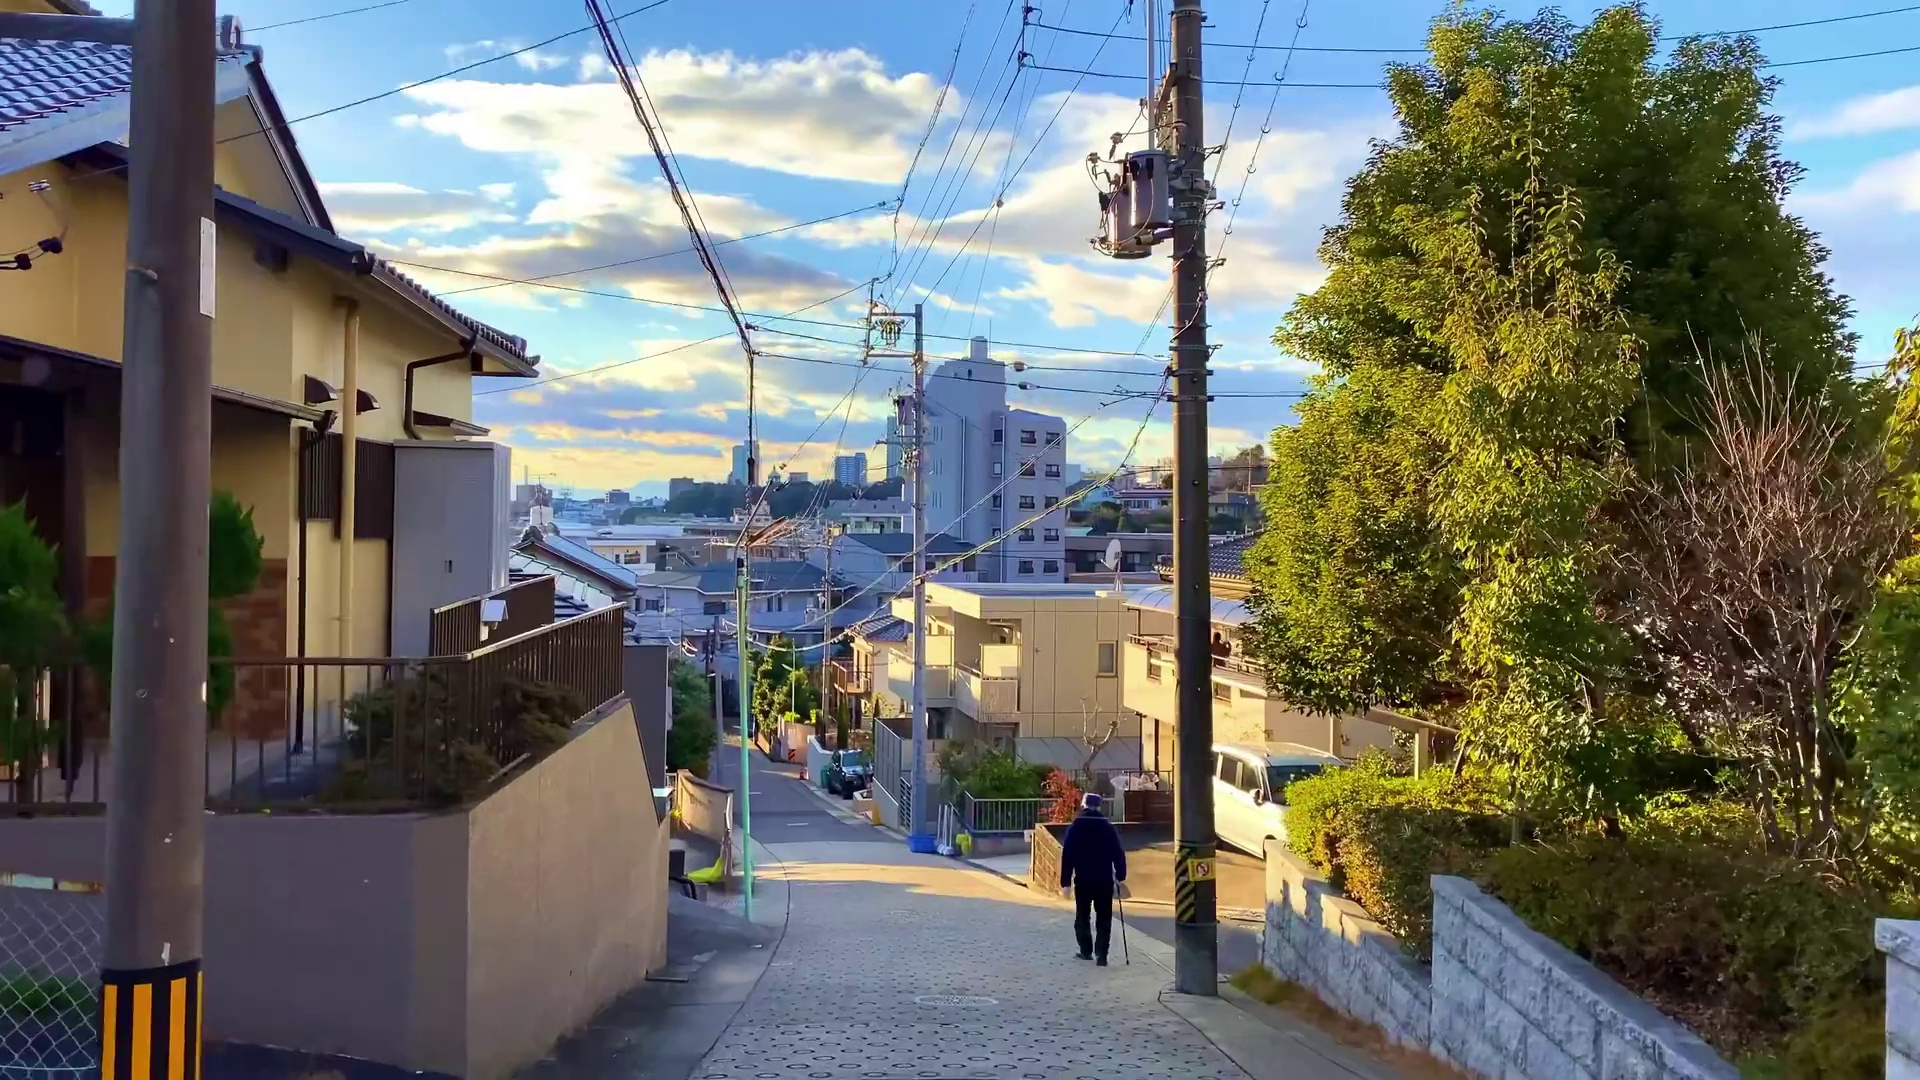person: (1061, 793, 1129, 965)
